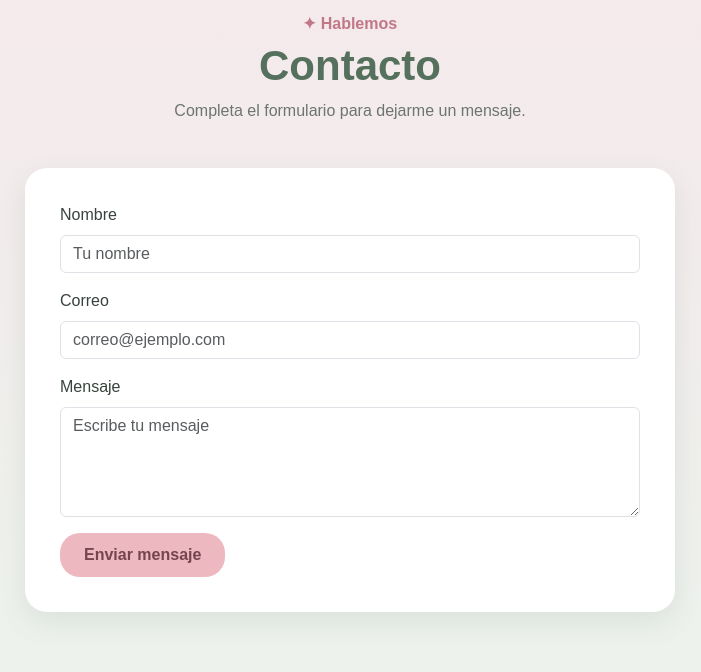
Scenario: Contacto › actualiza el state y acepta datos válidos
Type "Thiara" into the field labelled "Nombre" at (350, 254), box [60,235,640,273]
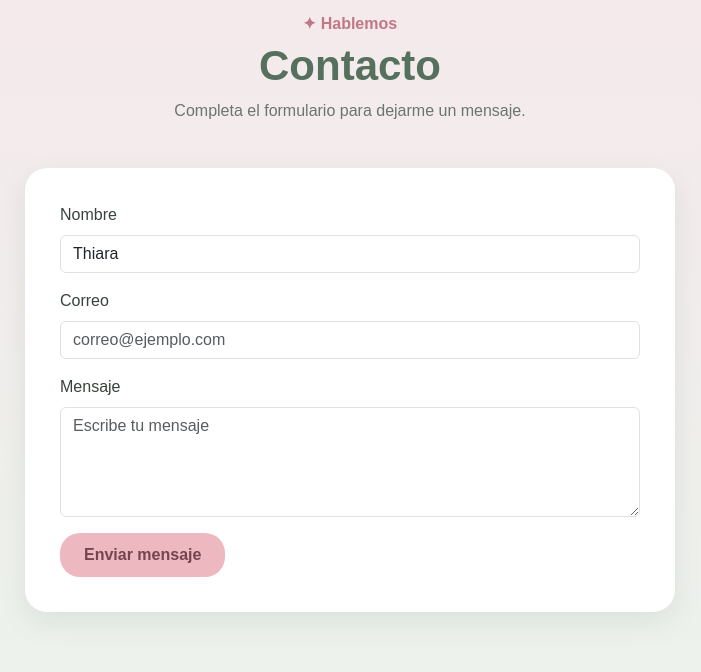
Type "thiara@correo.cl" into the field labelled "Correo" at (350, 340), box [60,321,640,359]
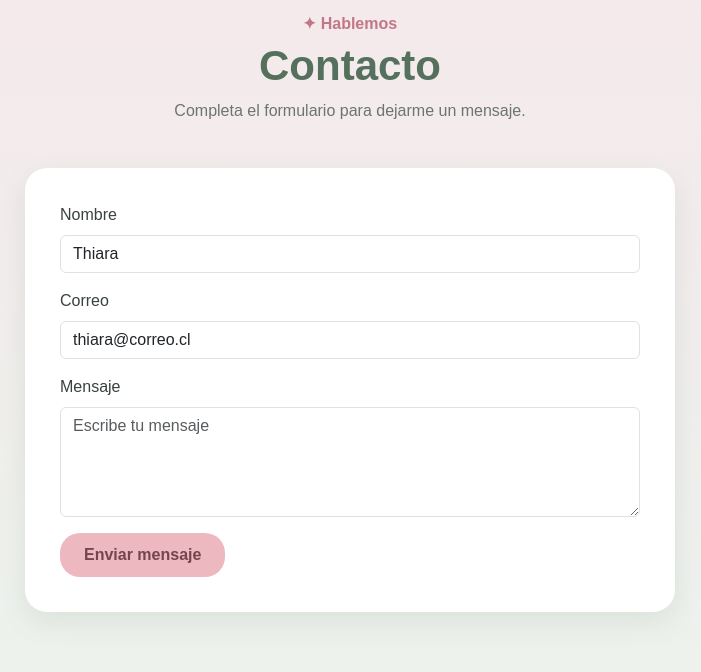
Type "Este es un mensaje válido para la prueba." into the text box labelled "Mensaje" at (350, 462), box [60,407,640,517]
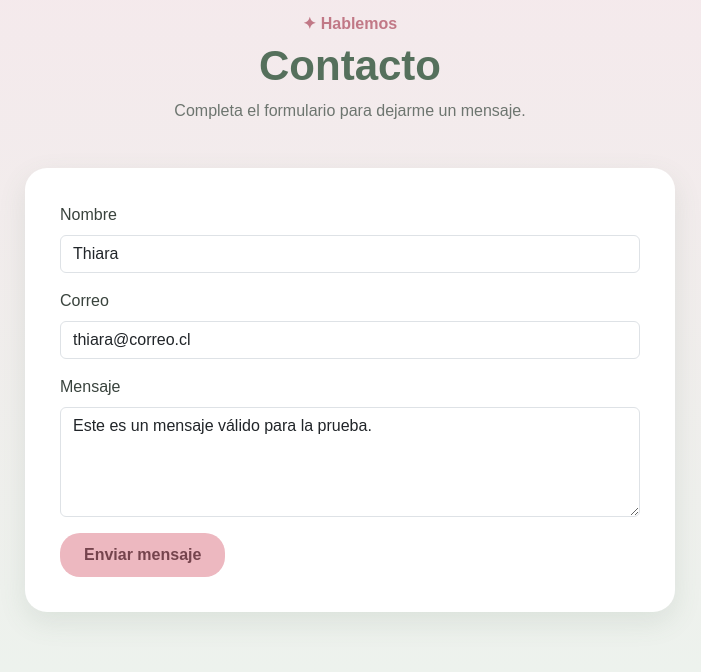
Click the button "Enviar mensaje" at (143, 555), box [60,533,225,577]
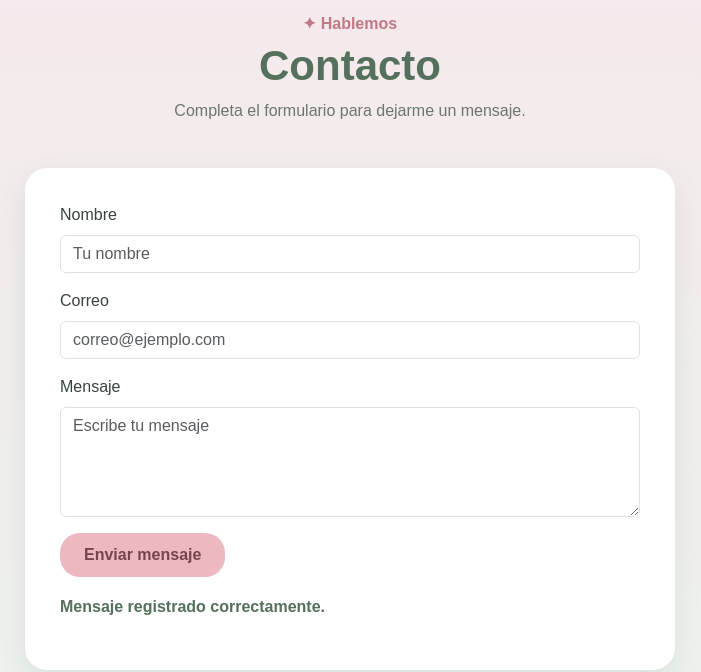
Now the text "Mensaje registrado correctamente." is shown, box [60,598,325,615]
